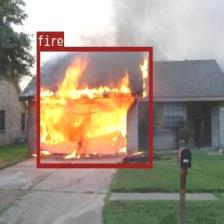fire: (37, 46, 152, 166)
